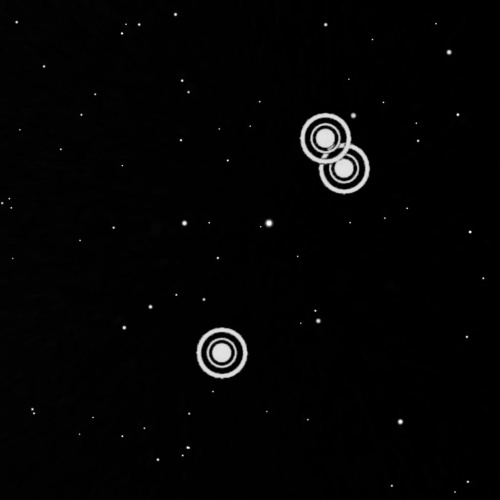canis_minor: (188, 108, 379, 389)
